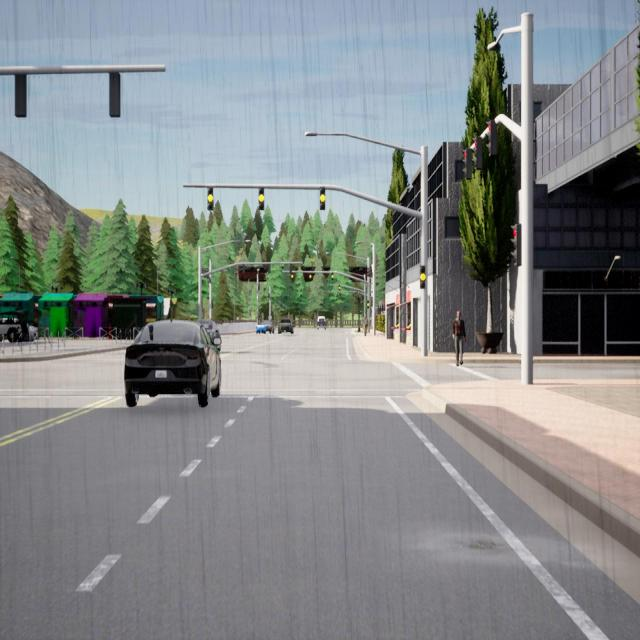Pedestrian: (452, 311, 466, 366), (363, 316, 368, 337)
Traffic_Signs: (268, 316, 272, 320)
Vehicle: (125, 320, 222, 407), (0, 313, 39, 349), (197, 320, 221, 351), (278, 319, 294, 334), (262, 320, 274, 334), (317, 316, 326, 330), (256, 324, 266, 334)
traffic_light: (14, 74, 26, 117), (110, 74, 120, 118), (511, 223, 521, 266), (486, 120, 496, 156), (472, 136, 482, 170), (462, 148, 472, 180), (207, 187, 214, 211), (420, 266, 426, 288), (259, 188, 264, 210), (320, 188, 325, 210), (242, 265, 245, 274), (291, 273, 294, 281), (289, 264, 292, 272), (309, 272, 312, 280), (268, 264, 270, 274), (370, 267, 372, 277), (371, 297, 373, 307), (204, 269, 206, 278), (212, 301, 214, 309), (367, 300, 369, 308), (368, 268, 370, 276), (206, 270, 208, 278), (202, 268, 204, 274), (332, 274, 334, 280), (258, 284, 260, 290), (268, 293, 270, 298), (340, 292, 341, 297), (353, 292, 354, 297), (329, 292, 330, 296), (339, 286, 340, 290)
